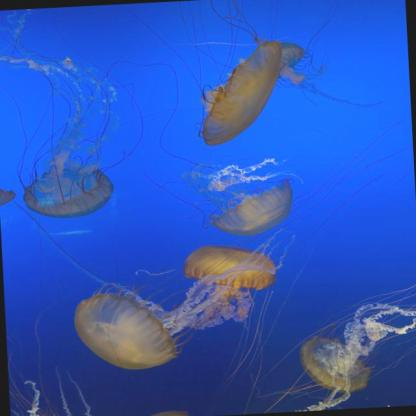jellyfish: (197, 38, 287, 146), (73, 288, 179, 374), (22, 164, 116, 218), (182, 241, 276, 293), (208, 184, 297, 237), (298, 332, 372, 395), (253, 38, 311, 74), (0, 184, 16, 209)
